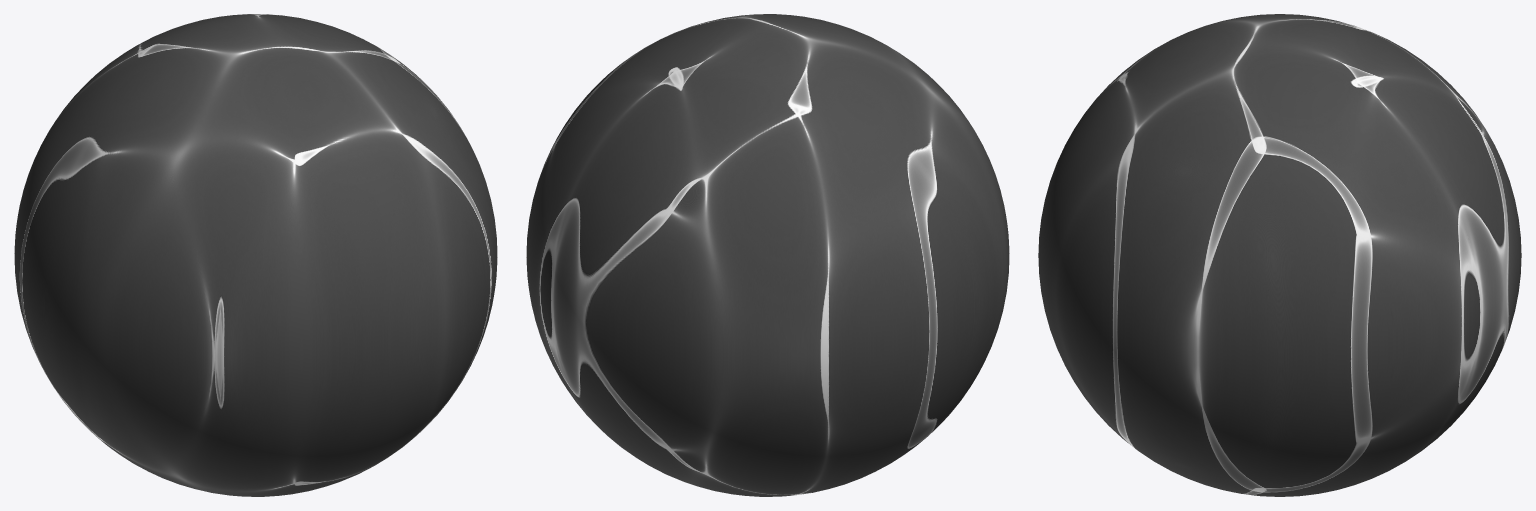
The model's file is loneliquid.fbx.
3 views of the same model, side by side, from view 1: azimuth 30°, elevation 25°; view 2: azimuth 150°, elevation 25°; view 3: azimuth 270°, elevation 25° (orthographic).
Visible parts, largest first — view 1: Liquid; view 2: Liquid; view 3: Liquid.
Boxes of the visible parts, x1,y1,x2,y2 form: Liquid: (14, 14, 497, 496); Liquid: (526, 14, 1009, 496); Liquid: (1038, 14, 1521, 496).
Size of the model in its own units: 198 by 198 by 198.
